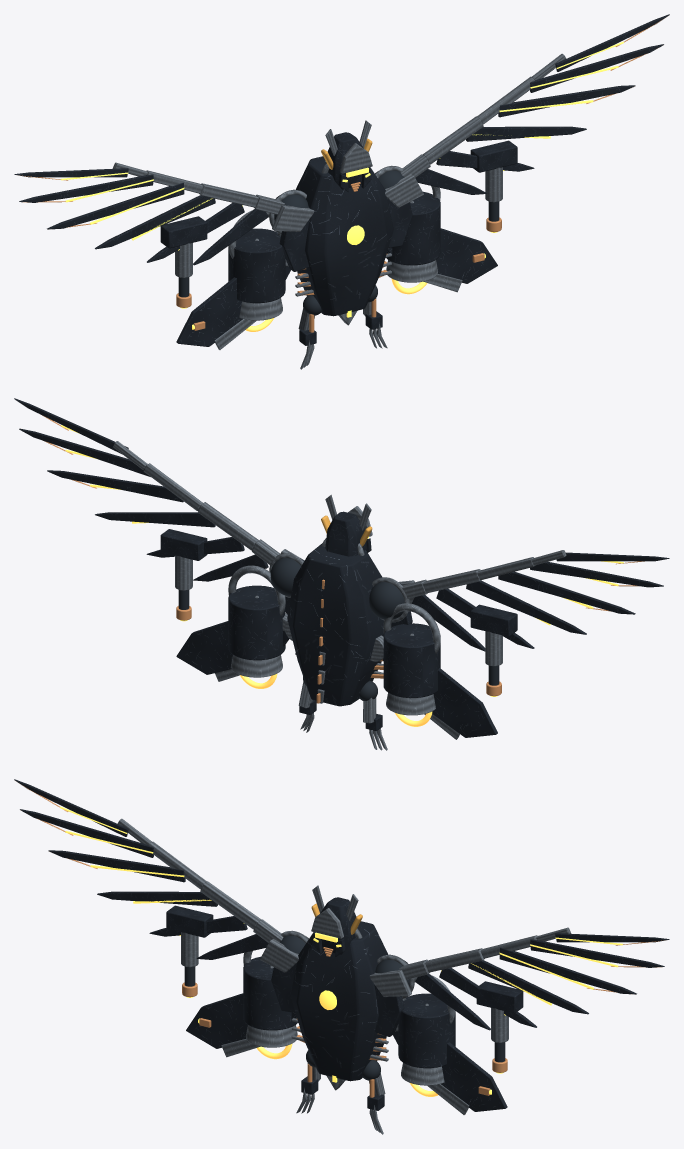
The model's file is seraph.glb.
3 renders of one model, top to bottom at view 1: azimuth 30°, elevation 25°; view 2: azimuth 150°, elevation 25°; view 3: azimuth 330°, elevation 25°, orthographic.
Visible parts, largest first — view 1: SeraphTorso.001_SERAPH_Slate_Armor_Combined, WingUpper_L.001_SERAPH_Slate_Armor_Combined, WingUpper_R.001_SERAPH_Slate_Armor_Combined, Turbine_Outer_Cowl_L.001, Turbine_Outer_Cowl_R.001, Lower_Stabilizer_Fin_L.001, WingUpper_R.001_SERAPH_Machined_Titanium_Combined, Lower_Stabilizer_Fin_R.001, SeraphTorso.001_SERAPH_Machined_Titanium_Combined, WingUpper_L.001_SERAPH_Machined_Titanium_Combined, Cannon_Receiver_L.001, SeraphHead.001_SERAPH_Slate_Armor_Combined (+8 smaller); view 2: SeraphTorso.001_SERAPH_Slate_Armor_Combined, WingUpper_L.001_SERAPH_Slate_Armor_Combined, WingUpper_R.001_SERAPH_Slate_Armor_Combined, Turbine_Outer_Cowl_L.001, Turbine_Outer_Cowl_R.001, WingUpper_R.001_SERAPH_Machined_Titanium_Combined, Lower_Stabilizer_Fin_L.001, WingUpper_L.001_SERAPH_Machined_Titanium_Combined, Lower_Stabilizer_Fin_R.001, Thruster_R.001_SERAPH_Machined_Titanium_Combined, Thruster_L.001_SERAPH_Machined_Titanium_Combined, SeraphHead.001_SERAPH_Slate_Armor_Combined (+7 smaller); view 3: SeraphTorso.001_SERAPH_Slate_Armor_Combined, WingUpper_R.001_SERAPH_Slate_Armor_Combined, WingUpper_L.001_SERAPH_Slate_Armor_Combined, Turbine_Outer_Cowl_R.001, Turbine_Outer_Cowl_L.001, Lower_Stabilizer_Fin_R.001, WingUpper_L.001_SERAPH_Machined_Titanium_Combined, Lower_Stabilizer_Fin_L.001, SeraphTorso.001_SERAPH_Machined_Titanium_Combined, WingUpper_R.001_SERAPH_Machined_Titanium_Combined, Cannon_Receiver_R.001, SeraphHead.001_SERAPH_Slate_Armor_Combined (+8 smaller).
Part boxes in pixels (x1,y1,x2,y2): SeraphTorso.001_SERAPH_Slate_Armor_Combined: [279, 156, 412, 316]; WingUpper_L.001_SERAPH_Slate_Armor_Combined: [14, 168, 268, 265]; WingUpper_R.001_SERAPH_Slate_Armor_Combined: [415, 14, 669, 194]; Turbine_Outer_Cowl_L.001: [228, 228, 285, 303]; Turbine_Outer_Cowl_R.001: [386, 191, 440, 265]; Lower_Stabilizer_Fin_L.001: [176, 266, 290, 346]; WingUpper_R.001_SERAPH_Machined_Titanium_Combined: [375, 53, 566, 178]; Lower_Stabilizer_Fin_R.001: [387, 228, 497, 283]; SeraphTorso.001_SERAPH_Machined_Titanium_Combined: [272, 163, 423, 325]; WingUpper_L.001_SERAPH_Machined_Titanium_Combined: [113, 162, 306, 233]; Cannon_Receiver_L.001: [160, 216, 207, 248]; SeraphHead.001_SERAPH_Slate_Armor_Combined: [326, 132, 371, 191]; SeraphTorso.001_SERAPH_Slate_Armor_Combined: [285, 544, 412, 706]; WingUpper_L.001_SERAPH_Slate_Armor_Combined: [412, 552, 669, 651]; WingUpper_R.001_SERAPH_Slate_Armor_Combined: [14, 398, 268, 581]; Turbine_Outer_Cowl_L.001: [383, 623, 440, 698]; Turbine_Outer_Cowl_R.001: [228, 585, 285, 660]; WingUpper_R.001_SERAPH_Machined_Titanium_Combined: [113, 441, 303, 597]; Lower_Stabilizer_Fin_L.001: [382, 658, 497, 737]; WingUpper_L.001_SERAPH_Machined_Titanium_Combined: [372, 550, 566, 622]; Lower_Stabilizer_Fin_R.001: [176, 621, 289, 674]; Thruster_R.001_SERAPH_Machined_Titanium_Combined: [228, 565, 287, 677]; Thruster_L.001_SERAPH_Machined_Titanium_Combined: [383, 603, 440, 715]; SeraphHead.001_SERAPH_Slate_Armor_Combined: [325, 511, 371, 556]; SeraphTorso.001_SERAPH_Slate_Armor_Combined: [271, 921, 404, 1081]; WingUpper_R.001_SERAPH_Slate_Armor_Combined: [415, 933, 669, 1030]; WingUpper_L.001_SERAPH_Slate_Armor_Combined: [14, 779, 268, 959]; Turbine_Outer_Cowl_R.001: [398, 993, 455, 1068]; Turbine_Outer_Cowl_L.001: [243, 956, 297, 1030]; Lower_Stabilizer_Fin_R.001: [393, 1031, 507, 1111]; WingUpper_L.001_SERAPH_Machined_Titanium_Combined: [117, 818, 308, 943]; Lower_Stabilizer_Fin_L.001: [186, 993, 296, 1048]; SeraphTorso.001_SERAPH_Machined_Titanium_Combined: [260, 928, 411, 1090]; WingUpper_R.001_SERAPH_Machined_Titanium_Combined: [377, 927, 570, 998]; Cannon_Receiver_R.001: [476, 981, 523, 1013]; SeraphHead.001_SERAPH_Slate_Armor_Combined: [312, 897, 357, 956].
Size of the model in its own units: 12.68 by 4.86 by 1.37.
10 materials, 2 textured.
